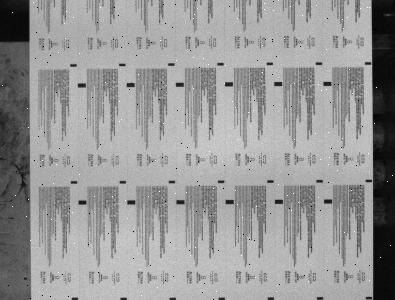qblock: (126, 82, 135, 87), (175, 82, 184, 87), (323, 81, 332, 86), (78, 200, 87, 205), (225, 199, 234, 204), (78, 83, 86, 88), (275, 199, 283, 204), (274, 82, 283, 86), (176, 200, 185, 204), (225, 82, 233, 86), (127, 200, 135, 204), (324, 199, 332, 203)
smallqblock: (70, 180, 78, 184), (70, 296, 78, 300), (217, 296, 225, 300), (316, 296, 324, 300), (217, 62, 224, 66), (119, 180, 126, 184), (316, 179, 323, 183), (168, 296, 175, 300), (120, 296, 126, 300), (70, 64, 77, 67), (119, 63, 126, 66), (168, 63, 175, 66), (266, 62, 273, 65), (315, 62, 322, 65), (365, 62, 372, 65), (267, 180, 274, 183), (169, 180, 176, 183), (218, 180, 225, 183), (365, 179, 372, 182), (268, 297, 275, 300), (366, 296, 373, 299)
